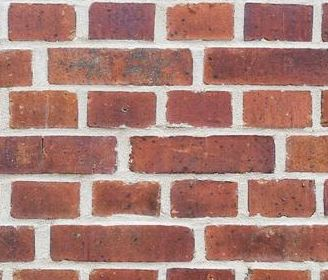brick: (129, 133, 278, 174), (45, 45, 193, 85), (47, 224, 195, 264), (201, 46, 328, 86), (1, 134, 121, 175), (202, 223, 328, 262), (241, 89, 316, 129), (8, 179, 83, 219), (6, 89, 80, 129), (85, 90, 159, 130), (7, 2, 78, 42), (87, 1, 157, 41), (242, 3, 315, 41), (165, 1, 236, 40), (246, 179, 317, 218), (89, 179, 161, 217), (171, 179, 240, 218), (164, 89, 234, 126), (283, 134, 328, 172), (1, 223, 36, 260), (1, 47, 34, 85)
